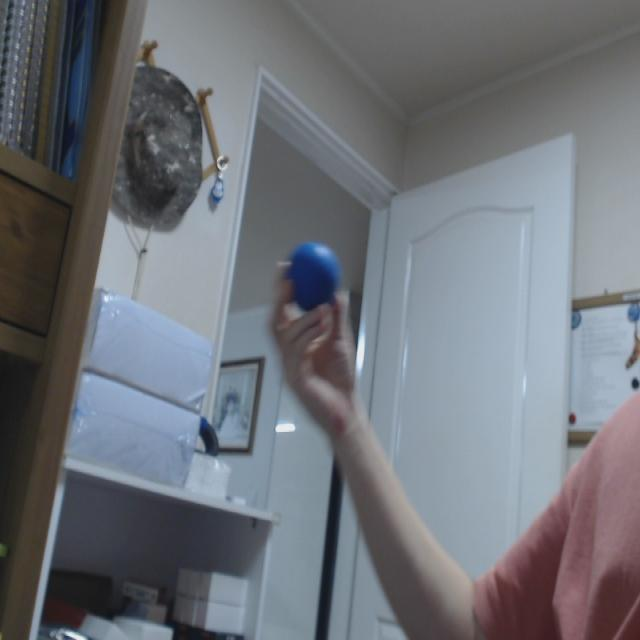golfball: (285, 240, 342, 316)
